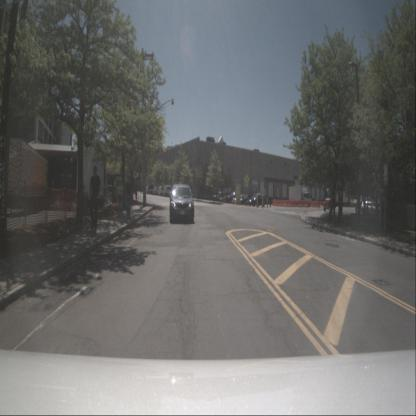human-pedestrian-adult: (90, 166, 102, 231), (125, 178, 133, 218), (117, 179, 124, 219)
movable_object-barrier: (272, 198, 278, 207), (310, 200, 316, 208), (278, 199, 282, 207), (304, 201, 309, 207), (320, 201, 326, 206), (282, 200, 286, 207), (299, 200, 303, 207), (286, 200, 290, 207), (292, 200, 296, 207), (316, 201, 319, 208), (296, 200, 299, 207), (290, 200, 292, 207)
vehicle-bicycle: (131, 183, 140, 202)
vehicle-car: (168, 184, 195, 224), (360, 200, 382, 215), (324, 189, 336, 212), (249, 192, 265, 208), (227, 191, 242, 204), (239, 194, 257, 204), (212, 191, 228, 201), (232, 194, 246, 204), (162, 185, 172, 197), (156, 186, 166, 196), (152, 185, 161, 196), (145, 184, 153, 194)
vehicle-truck: (350, 192, 360, 208), (303, 192, 312, 208)
